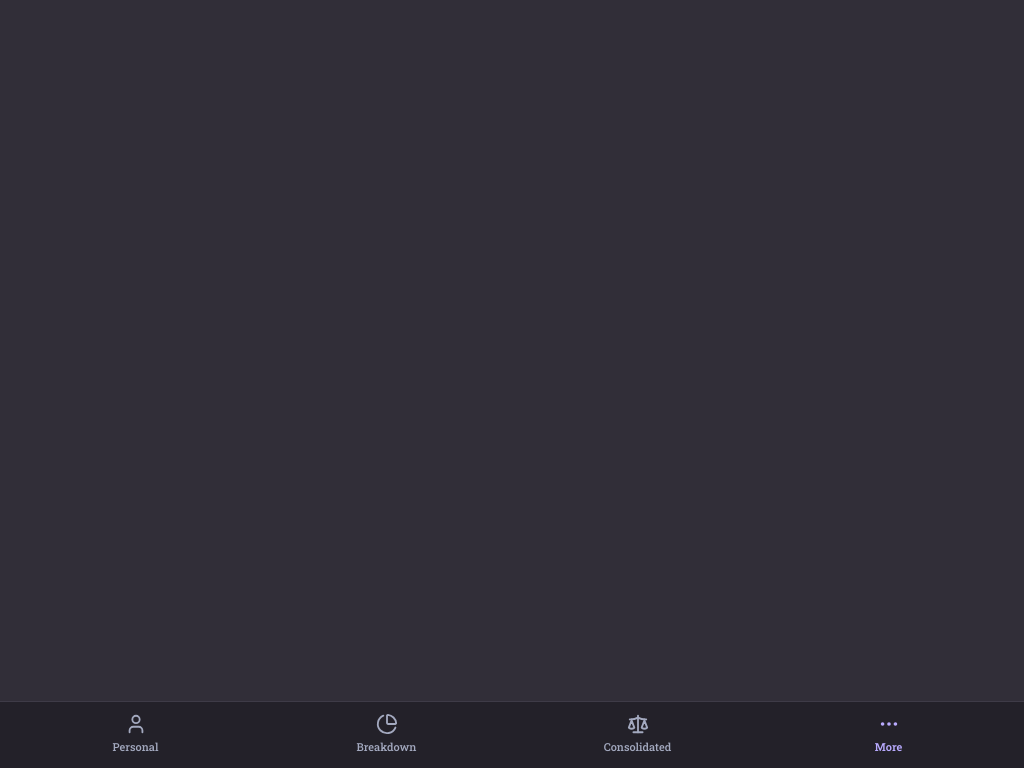
Scenario: BottomTabBar More sheet › offers the light theme while dark is active
The image size is (1024, 768).
Click the button "More".
click(888, 734)  # box top-left (765, 712), bottom-right (1012, 756)
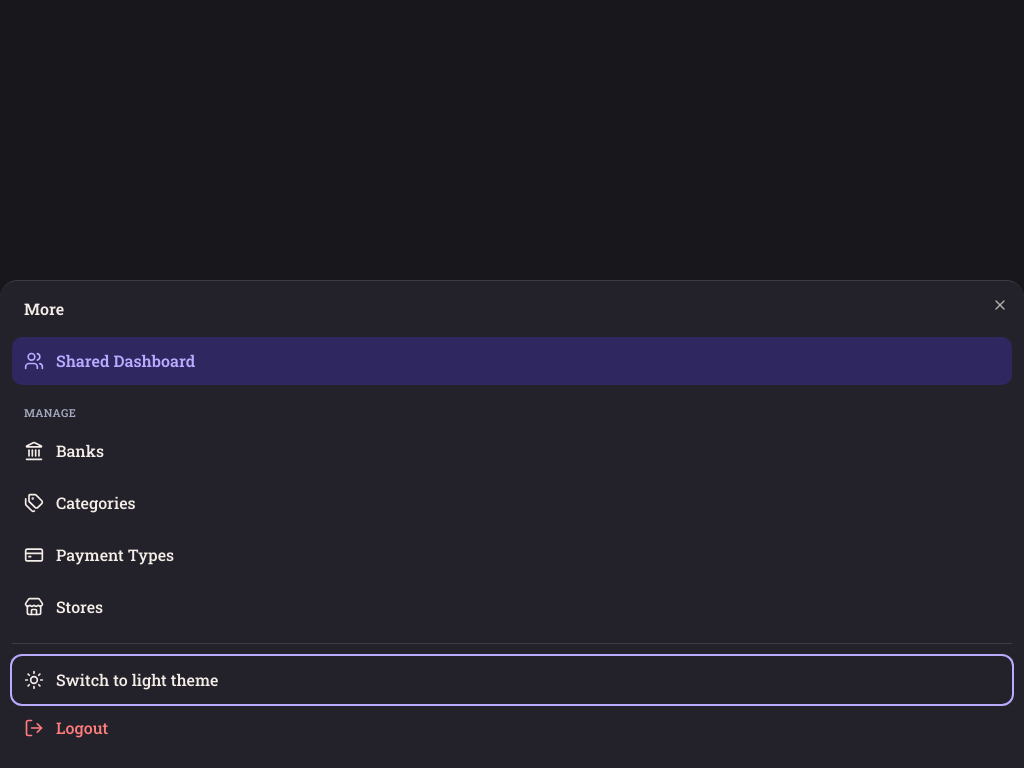
Check: the button "Switch to light theme" is shown, box top-left (12, 656), bottom-right (1012, 704)
